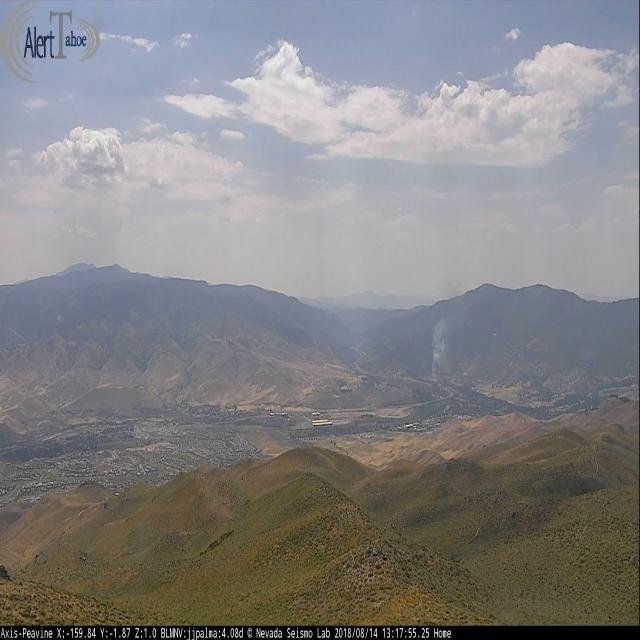smoke: (431, 315, 448, 378)
